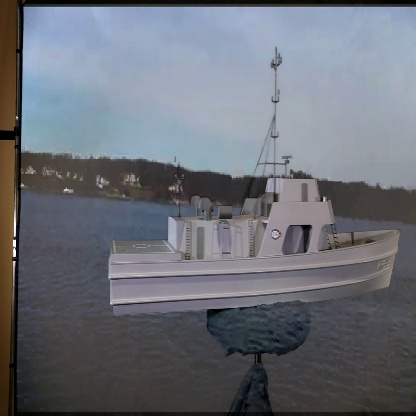YP689: (104, 46, 401, 318)
